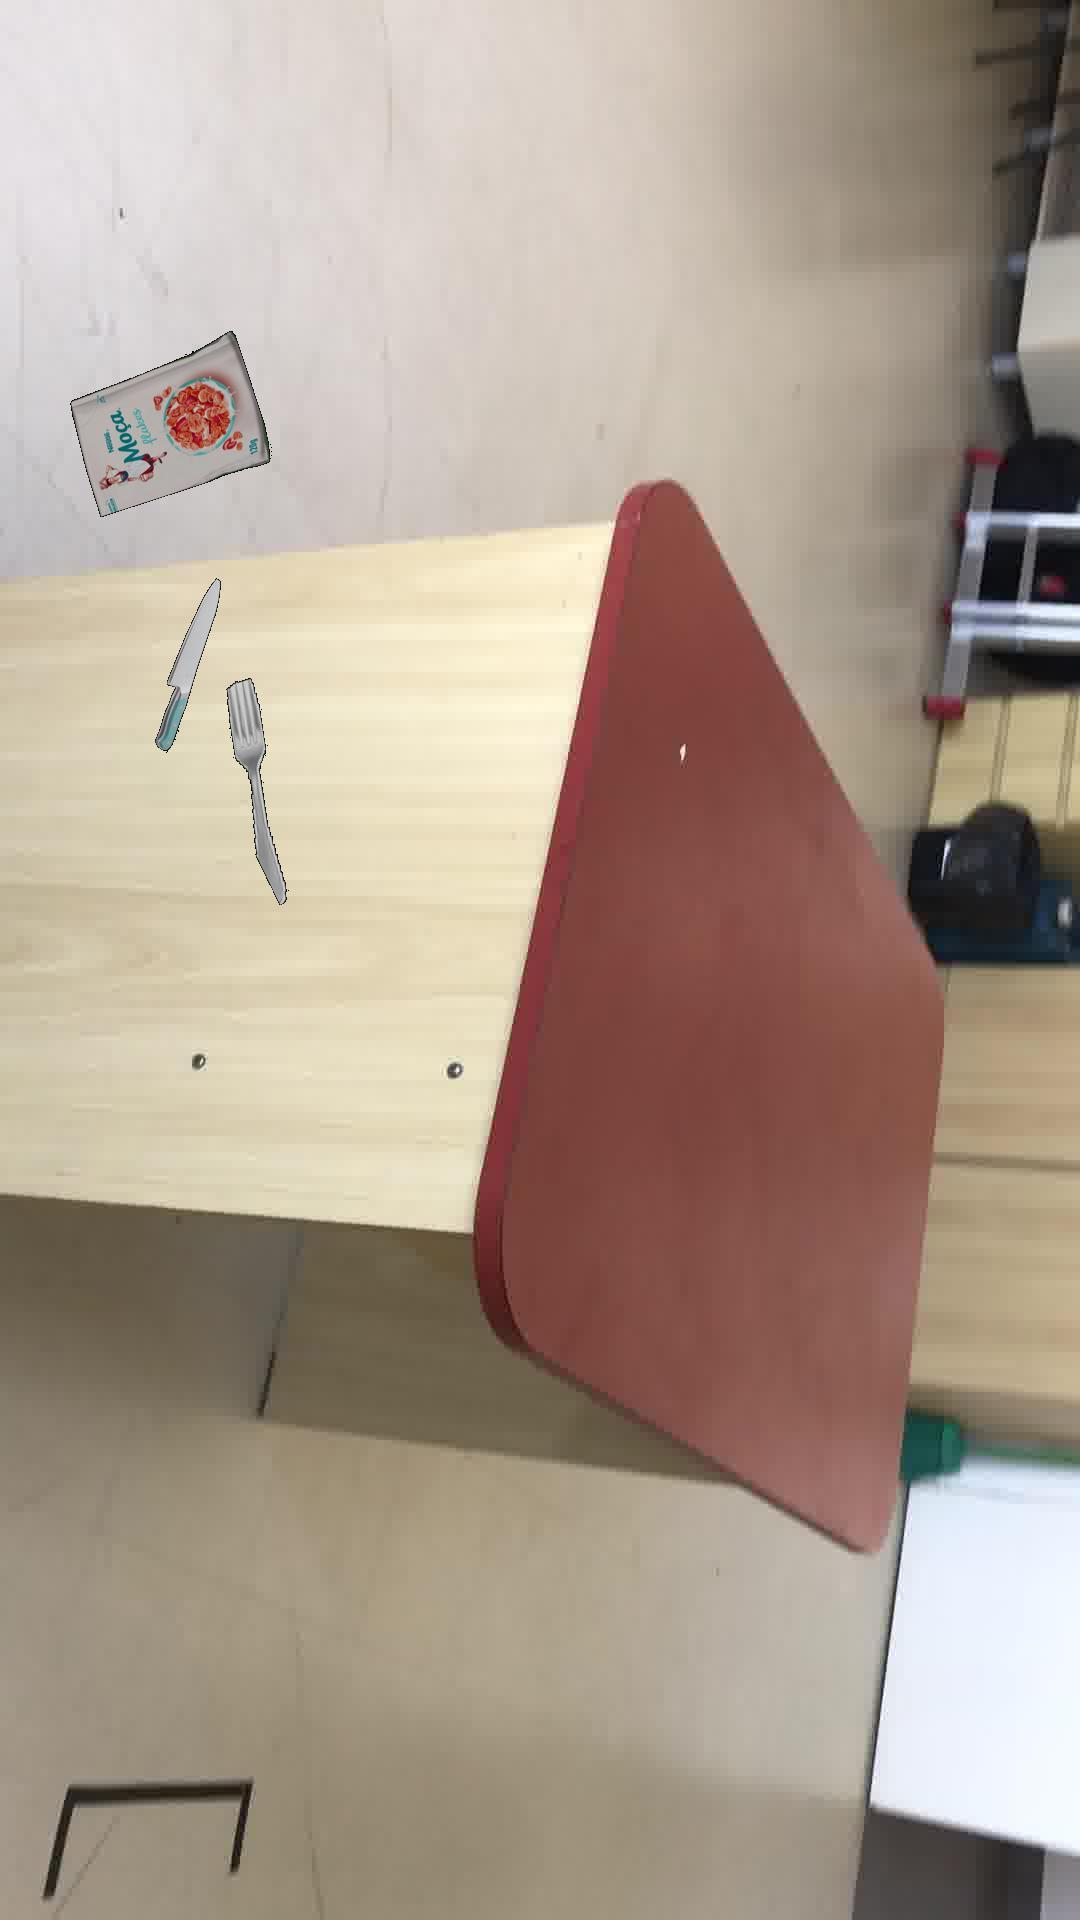corn flakes: (69, 330, 269, 516)
fork: (224, 676, 286, 903)
knife: (153, 576, 219, 750)
